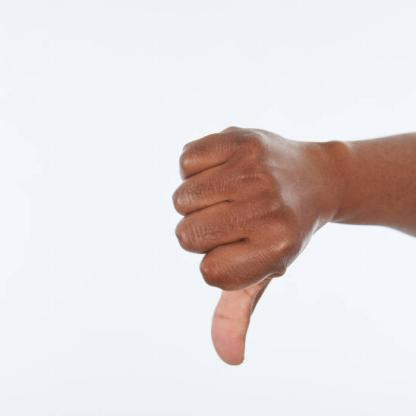thumb_down: (163, 117, 324, 369)
